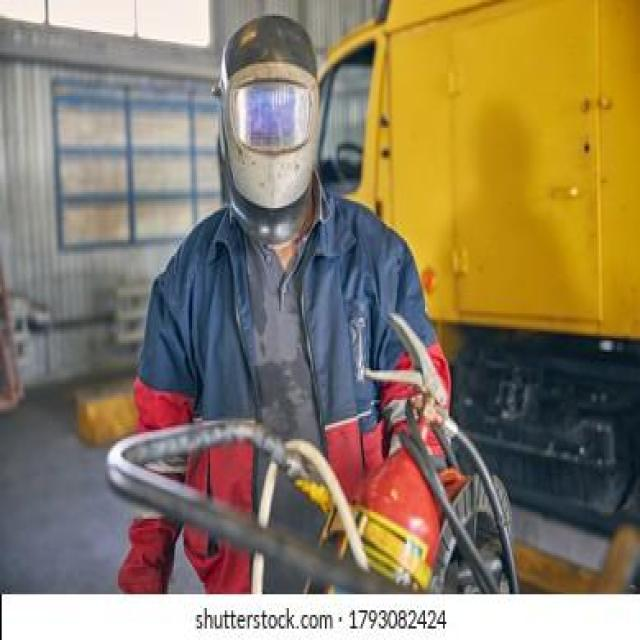fire_extinguisher: (289, 306, 472, 594)
